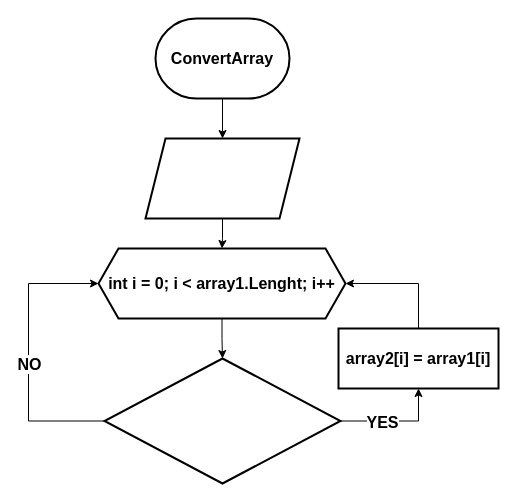
Some shapes in this 517 by 501 pixel diagram are drawn without their labels. The shapes that lost their labels are listed below. From the top down, each one's centre as x and y in pixels, then its label:
At (x=222, y=178): "string[ ] array1 string[ ] array2".
At (x=222, y=420): "array1[i].Length <= 3".
